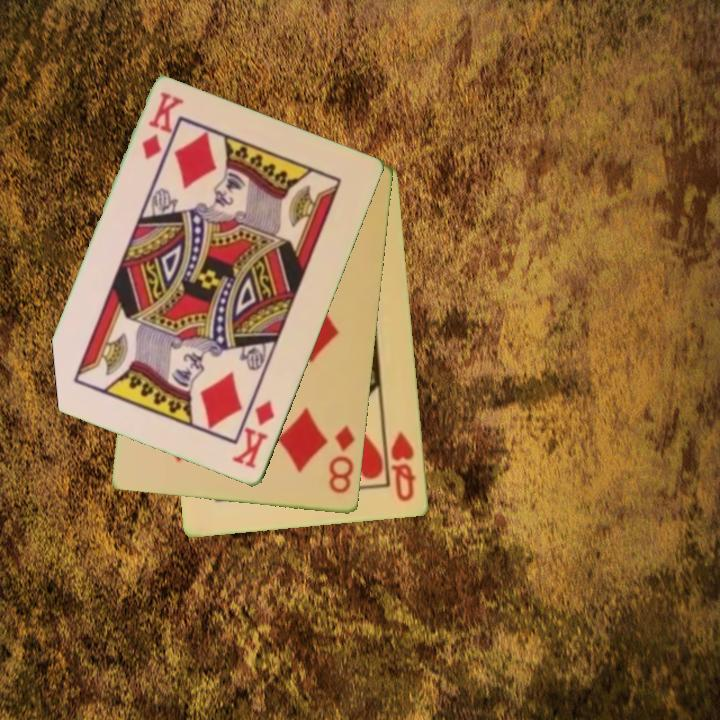8d: (325, 422, 358, 497)
Kd: (229, 396, 278, 472), (138, 89, 186, 164)
Qh: (387, 429, 419, 505)
